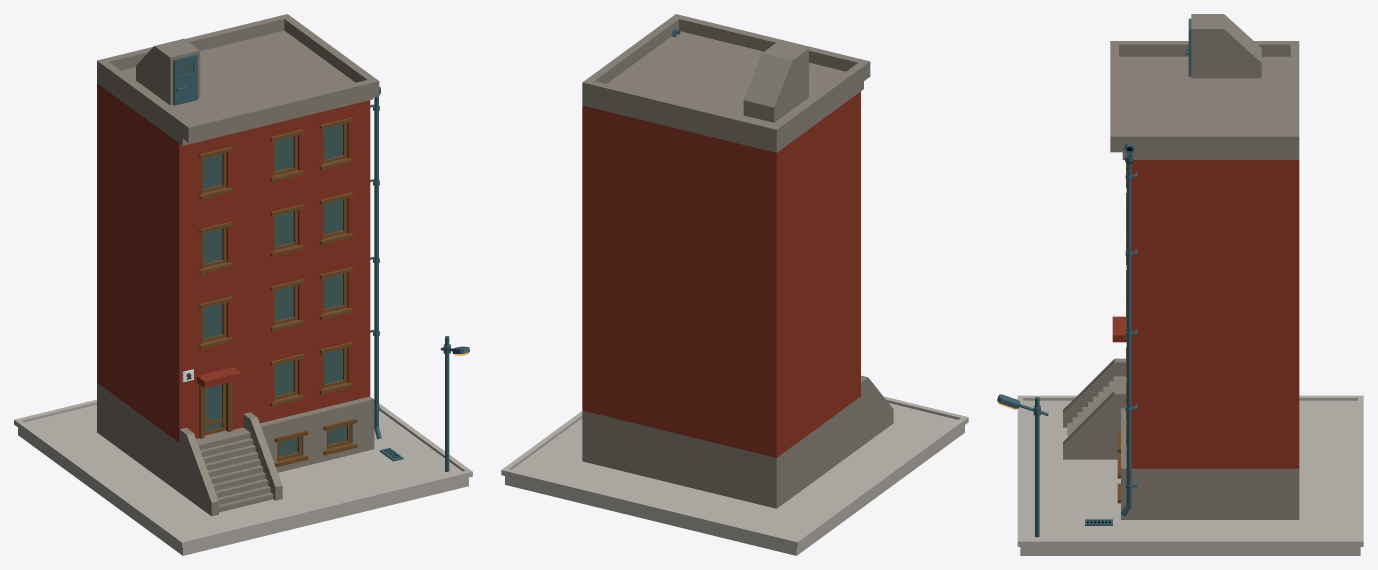
File: scene_mM1Bb9SXEk.glb
3 renders of one model, left to right at view 1: azimuth 30°, elevation 25°; view 2: azimuth 150°, elevation 25°; view 3: azimuth 270°, elevation 25°, orthographic. The views are drawn at different scales.
Visible parts, largest first — view 1: Box15819, Plane090, Object298, Box15823, Box15822, StraightStair010, Plane092, Rectangle021, Box15820, Cylinder1709, Box15821, Object293 (+3 smaller); view 2: Box15819, Object298, Plane090, Box15822, Rectangle021, Box15820, StraightStair010; view 3: Box15819, Plane090, Object298, Box15822, Rectangle021, StraightStair010, Box15820, Cylinder1709, street_light_02, Box15823.
Part boxes in pixels (bbox=[...]): Box15819: bbox=[97, 83, 370, 442]; Plane090: bbox=[18, 404, 468, 555]; Object298: bbox=[97, 14, 379, 145]; Box15823: bbox=[199, 117, 357, 467]; Box15822: bbox=[97, 383, 374, 492]; StraightStair010: bbox=[179, 412, 282, 516]; Plane092: bbox=[203, 124, 342, 395]; Rectangle021: bbox=[14, 399, 472, 547]; Box15820: bbox=[136, 38, 200, 105]; Cylinder1709: bbox=[374, 87, 381, 439]; Box15821: bbox=[173, 54, 197, 105]; Object293: bbox=[199, 382, 232, 438]; Box15819: bbox=[582, 91, 860, 457]; Object298: bbox=[582, 14, 870, 152]; Plane090: bbox=[505, 403, 964, 555]; Box15822: bbox=[582, 396, 860, 508]; Rectangle021: bbox=[501, 396, 968, 547]; Box15820: bbox=[743, 41, 808, 122]; StraightStair010: bbox=[861, 375, 893, 446]; Box15819: bbox=[1112, 160, 1299, 468]; Plane090: bbox=[1020, 400, 1360, 555]; Object298: bbox=[1110, 41, 1299, 159]; Box15822: bbox=[1121, 408, 1299, 519]; Rectangle021: bbox=[1017, 395, 1363, 546]; StraightStair010: bbox=[1063, 358, 1126, 459]; Box15820: bbox=[1191, 14, 1261, 78]; Cylinder1709: bbox=[1121, 154, 1133, 516]; street_light_02: bbox=[997, 394, 1048, 537]; Box15823: bbox=[1117, 163, 1126, 503].
Bounding box in the file's own units: 12.2 × 16.86 × 12.91.
